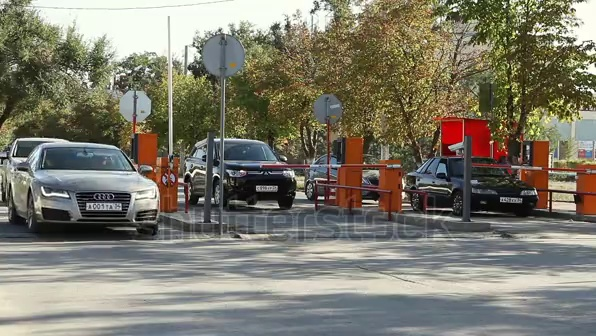licenseplate: (85, 202, 125, 212), (499, 196, 525, 211), (252, 186, 275, 192)
